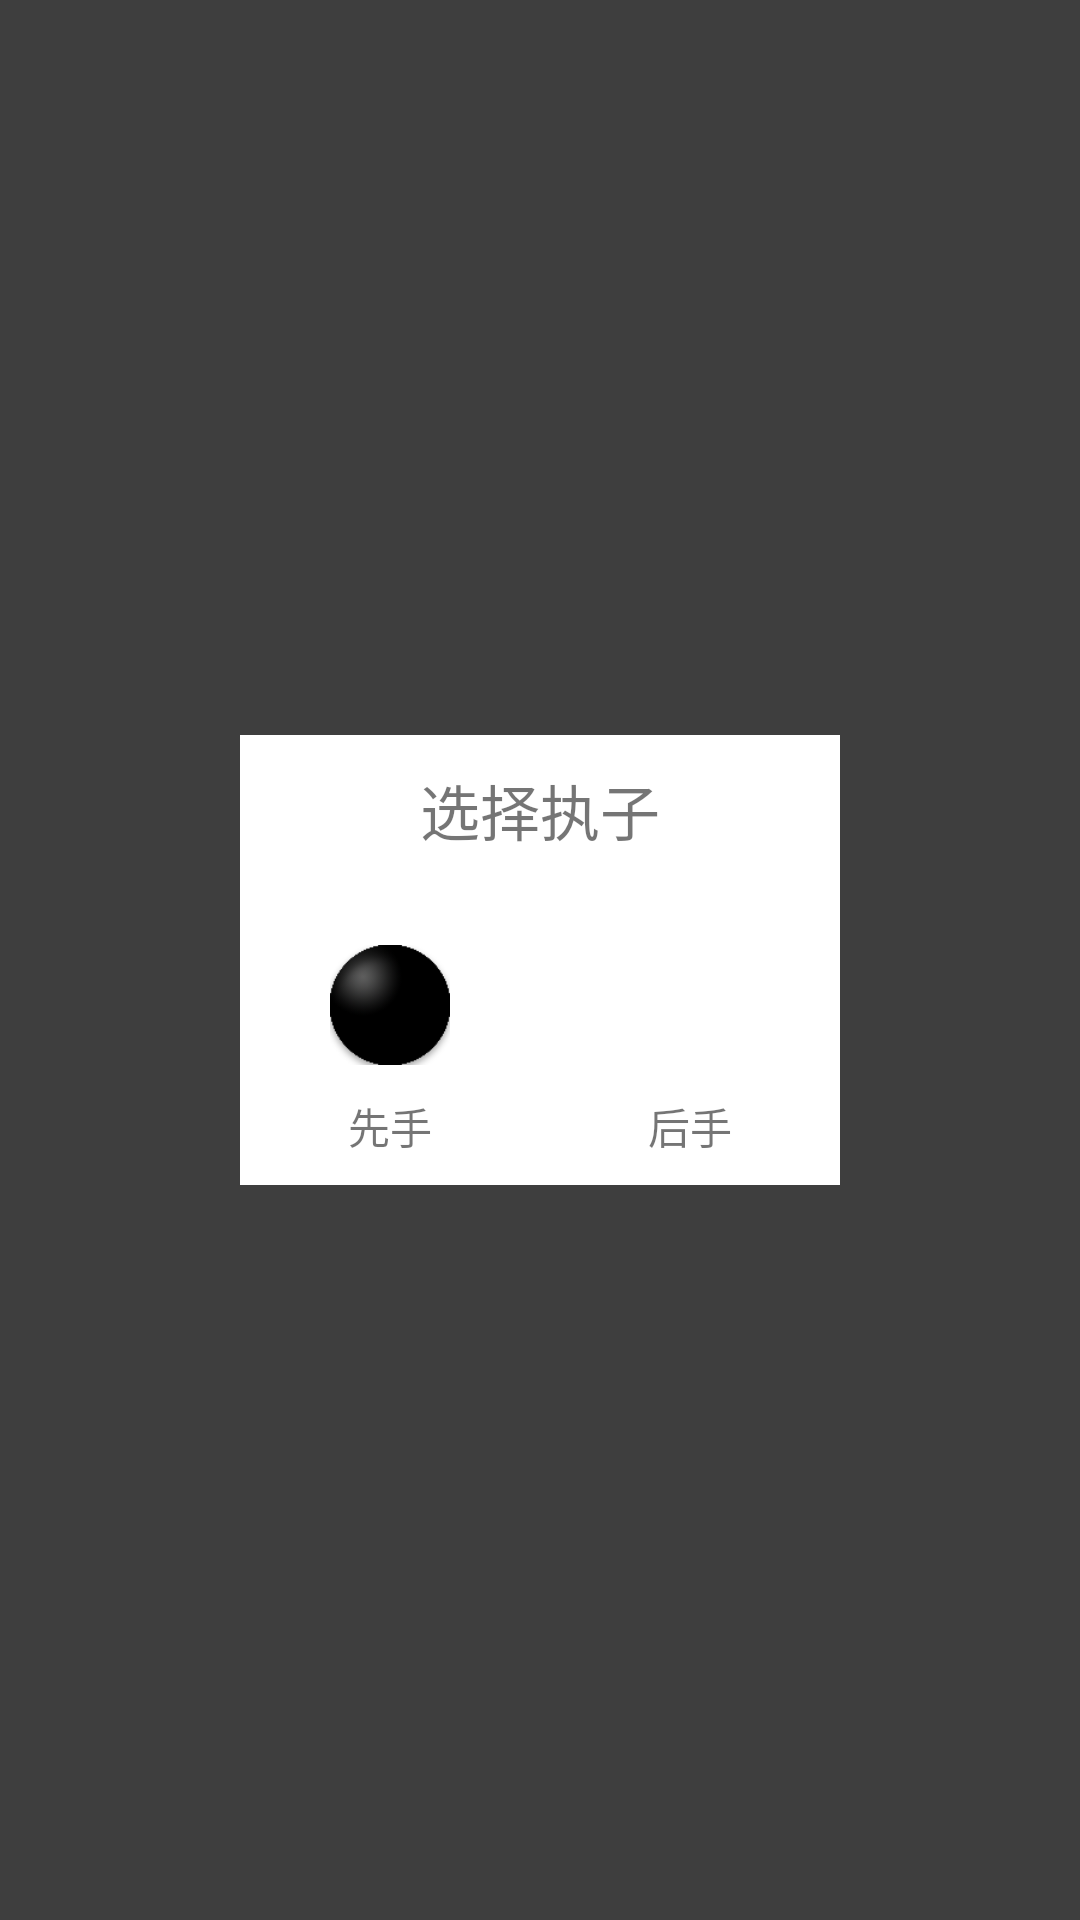

Icons on this 1080 × 1920 Android screen, each with its box as BBox(x1, y1, x2, y2):
chess: BBox(330, 945, 450, 1065)
